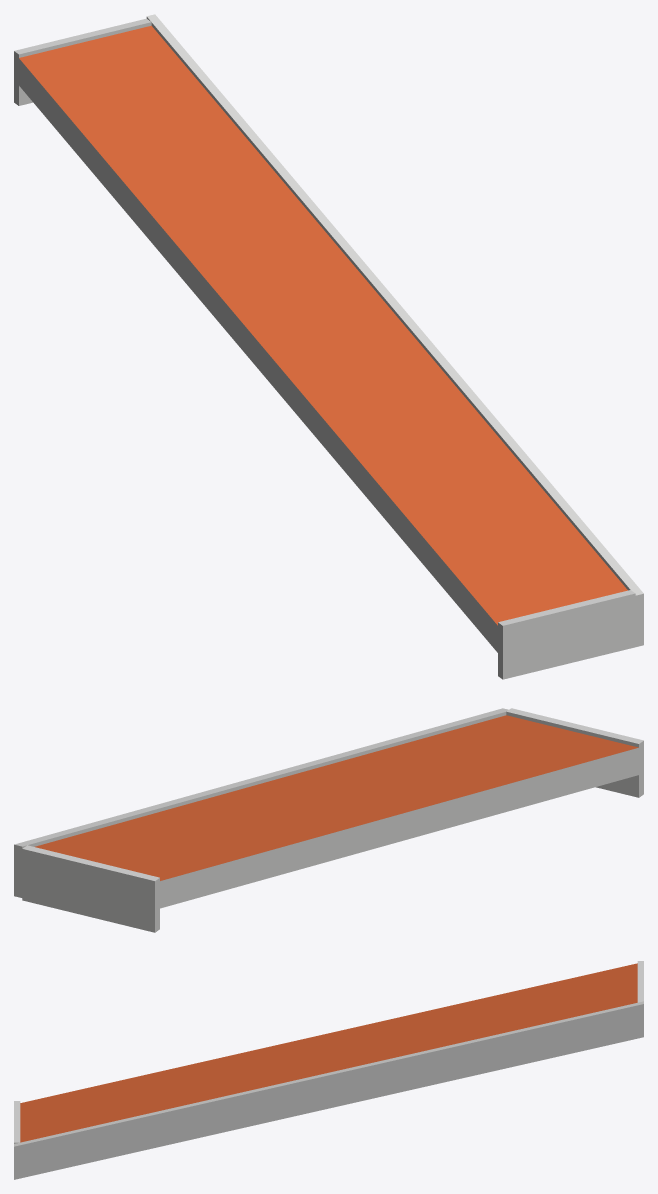
Rendered from telhado_meia_agua_empena_dir_v2_i25.glb.
3 renders of one model, top to bottom at view 1: azimuth 30°, elevation 25°; view 2: azimuth 150°, elevation 25°; view 3: azimuth 270°, elevation 25°, orthographic. The views are drawn at different scales.
Visible parts, largest first — view 1: telhado_meia_agua_empena_dir_v2_i25; view 2: telhado_meia_agua_empena_dir_v2_i25; view 3: telhado_meia_agua_empena_dir_v2_i25.
Part boxes in pixels (x1,y1,x2,y2): telhado_meia_agua_empena_dir_v2_i25: [14, 14, 643, 679]; telhado_meia_agua_empena_dir_v2_i25: [14, 708, 643, 932]; telhado_meia_agua_empena_dir_v2_i25: [14, 961, 643, 1179].
Size of the model in its own units: 0.5 by 0.9248 by 3.
